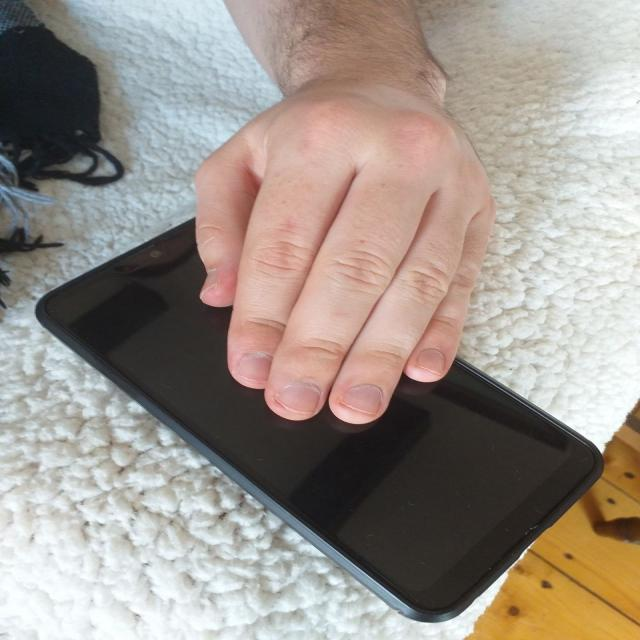Nail: (277, 383, 318, 412), (342, 384, 381, 413), (239, 351, 271, 379), (420, 349, 445, 374), (200, 270, 216, 298)
